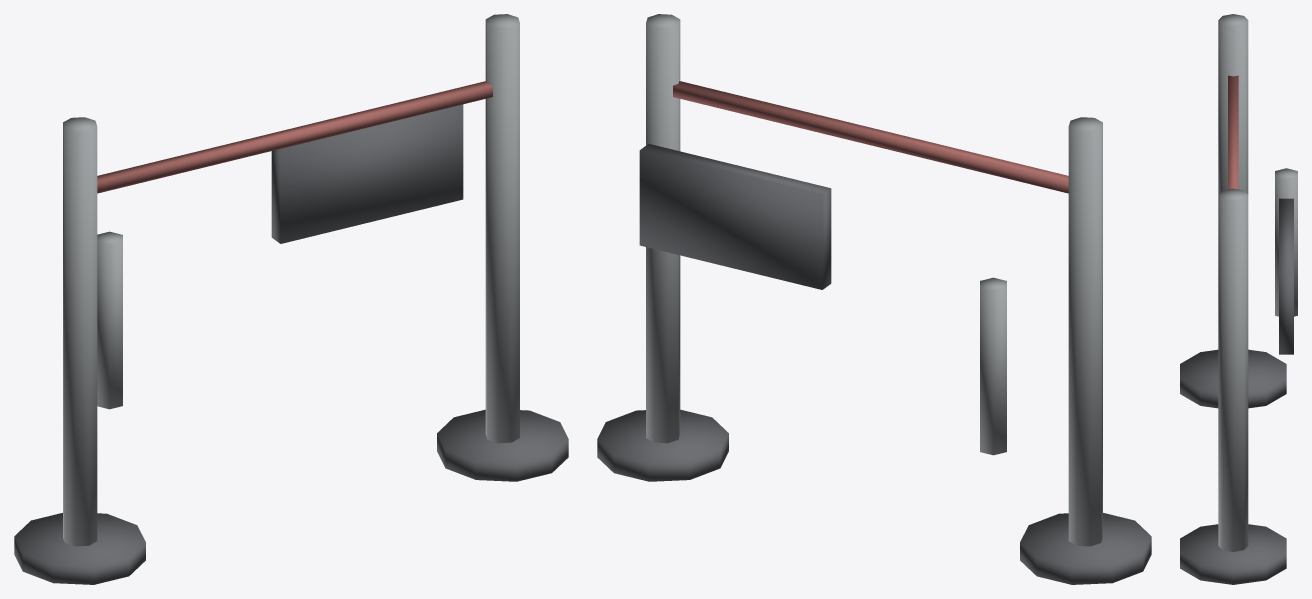
File: museum_rope_barrier__service.glb
3 renders of one model, left to right at view 1: azimuth 30°, elevation 25°; view 2: azimuth 150°, elevation 25°; view 3: azimuth 270°, elevation 25°, orthographic. The views are drawn at different scales.
Visible parts, largest first — view 1: world; view 2: world; view 3: world.
Boxes of the visible parts, x1,y1,x2,y2 form: world: [14, 14, 568, 584]; world: [597, 14, 1151, 584]; world: [1180, 14, 1297, 584].
Bounding box in the file's own units: 1.22 × 0.94 × 0.2737.
